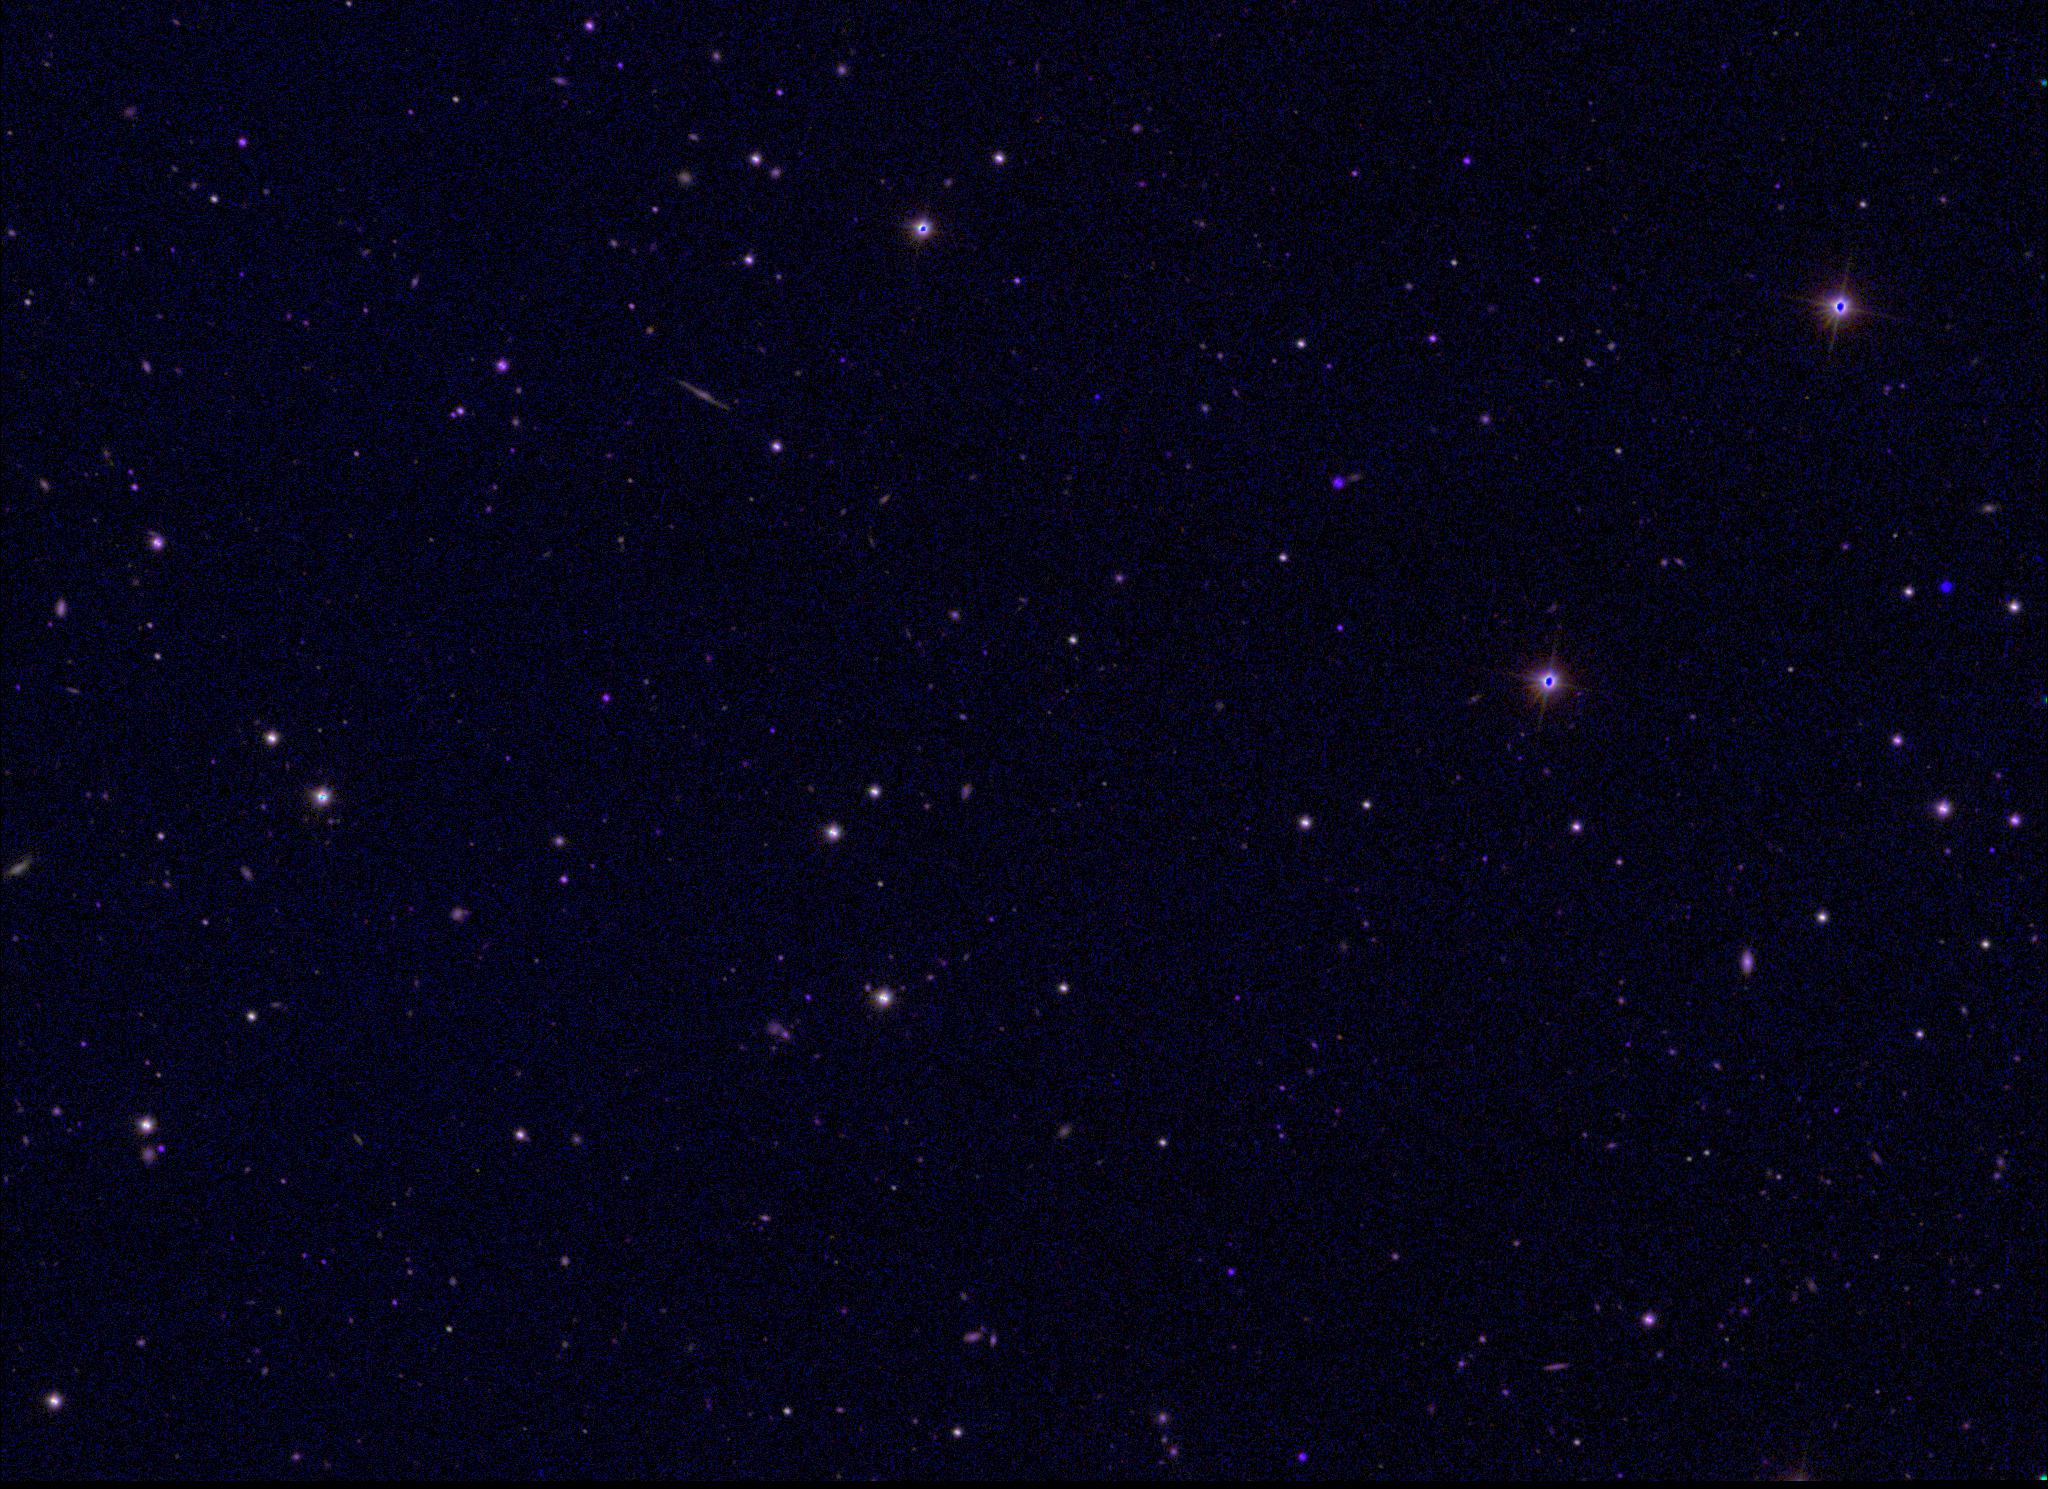L: (1940, 579, 1954, 593)
